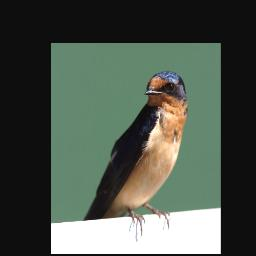Swallow: (83, 70, 186, 236)
